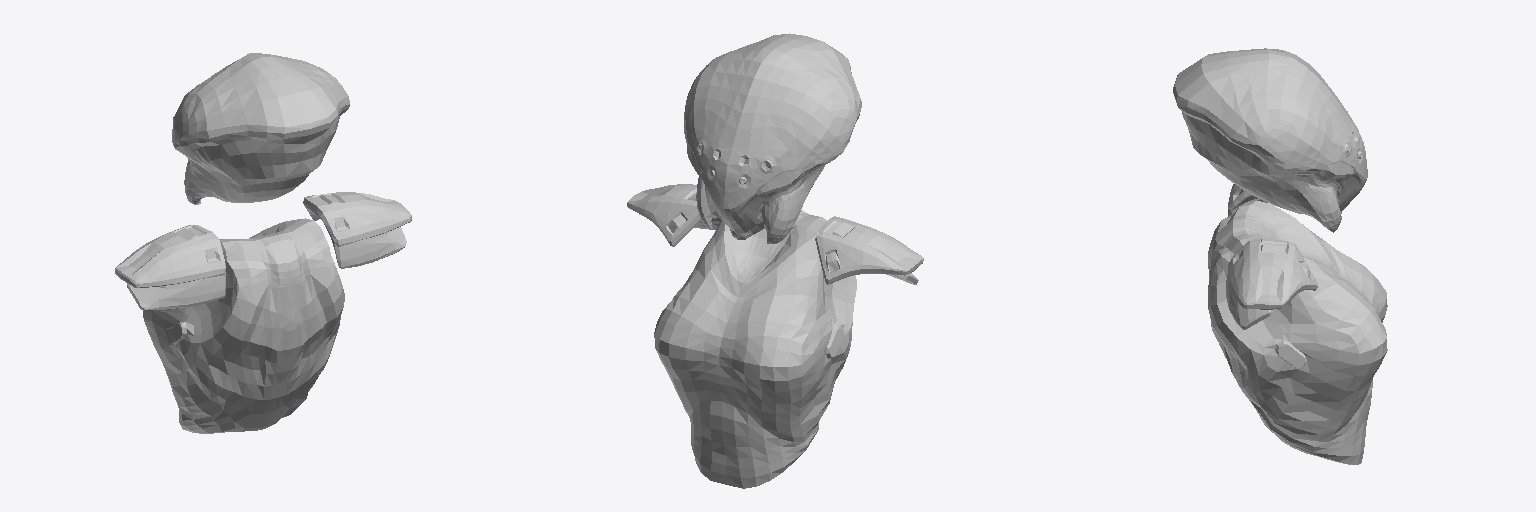
The model's file is KDK_Skin06.obj.
The picture shows the model from 3 angles: view 1: azimuth 30°, elevation 25°; view 2: azimuth 150°, elevation 25°; view 3: azimuth 270°, elevation 25°; orthographic projection.
Visible parts, largest first — view 1: KDK_Skin06_Chest_KDK_Skin06_Chest.001, KDK_Skin06_Helmet; view 2: KDK_Skin06_Chest_KDK_Skin06_Chest.001, KDK_Skin06_Helmet; view 3: KDK_Skin06_Chest_KDK_Skin06_Chest.001, KDK_Skin06_Helmet.
Boxes of the visible parts, box(x1,y1,x2,y2) form: KDK_Skin06_Chest_KDK_Skin06_Chest.001: box(115, 192, 411, 433); KDK_Skin06_Helmet: box(172, 53, 349, 204); KDK_Skin06_Chest_KDK_Skin06_Chest.001: box(627, 184, 923, 488); KDK_Skin06_Helmet: box(684, 33, 861, 243); KDK_Skin06_Chest_KDK_Skin06_Chest.001: box(1208, 184, 1387, 464); KDK_Skin06_Helmet: box(1173, 48, 1367, 232).
Size of the model in its own units: 0.7203 by 0.9889 by 0.4757.